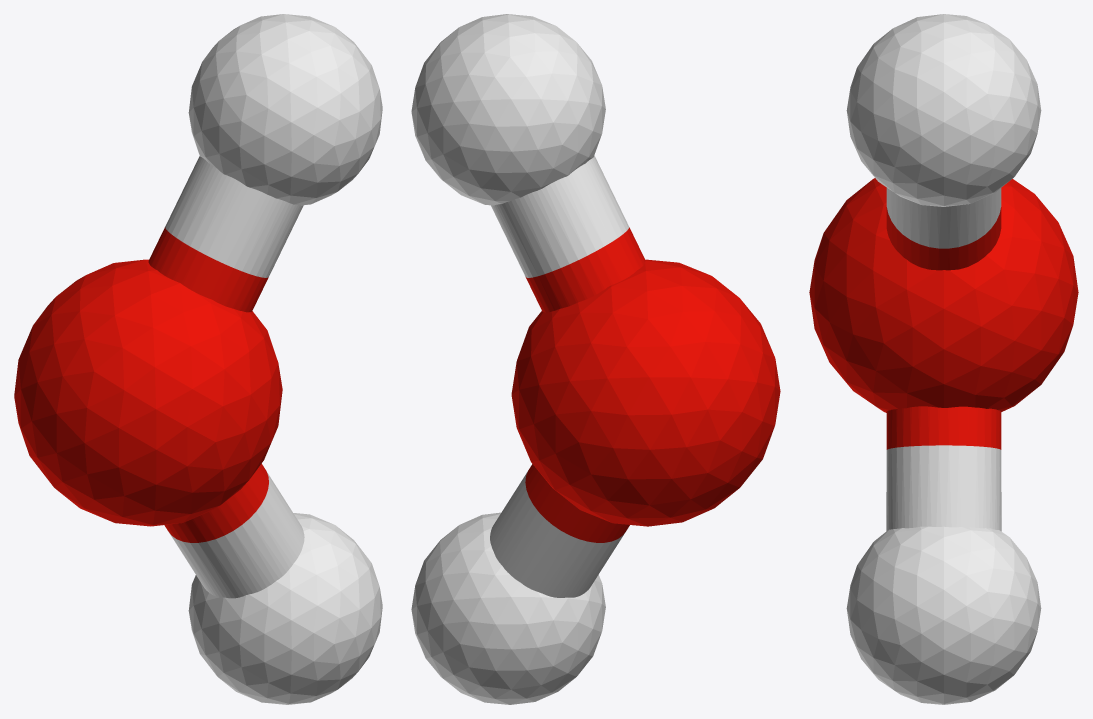
3 renders of one model, left to right at view 1: azimuth 30°, elevation 25°; view 2: azimuth 150°, elevation 25°; view 3: azimuth 270°, elevation 25°, orthographic.
Visible parts, largest first — view 1: Shape_IndexedFaceSet.001, Shape_IndexedFaceSet, Shape_IndexedFaceSet.002, Shape_IndexedFaceSet.008, Shape_IndexedFaceSet.005, Shape_IndexedFaceSet.007, Shape_IndexedFaceSet.003; view 2: Shape_IndexedFaceSet.001, Shape_IndexedFaceSet, Shape_IndexedFaceSet.002, Shape_IndexedFaceSet.008, Shape_IndexedFaceSet.005, Shape_IndexedFaceSet.007, Shape_IndexedFaceSet.003; view 3: Shape_IndexedFaceSet.001, Shape_IndexedFaceSet, Shape_IndexedFaceSet.002, Shape_IndexedFaceSet.005, Shape_IndexedFaceSet.003, Shape_IndexedFaceSet.008, Shape_IndexedFaceSet.007.
Part boxes in pixels (<box>): Shape_IndexedFaceSet.001: <box>14,259,282,526</box>; Shape_IndexedFaceSet: <box>188,14,382,205</box>; Shape_IndexedFaceSet.002: <box>188,513,382,704</box>; Shape_IndexedFaceSet.008: <box>165,156,303,277</box>; Shape_IndexedFaceSet.005: <box>169,472,304,598</box>; Shape_IndexedFaceSet.007: <box>148,227,268,312</box>; Shape_IndexedFaceSet.003: <box>164,463,268,542</box>; Shape_IndexedFaceSet.001: <box>511,259,780,526</box>; Shape_IndexedFaceSet: <box>411,14,605,205</box>; Shape_IndexedFaceSet.002: <box>411,512,605,704</box>; Shape_IndexedFaceSet.008: <box>491,155,628,277</box>; Shape_IndexedFaceSet.005: <box>490,471,625,597</box>; Shape_IndexedFaceSet.007: <box>525,227,645,312</box>; Shape_IndexedFaceSet.003: <box>525,464,629,542</box>; Shape_IndexedFaceSet.001: <box>809,178,1078,412</box>; Shape_IndexedFaceSet: <box>846,14,1041,206</box>; Shape_IndexedFaceSet.002: <box>846,526,1041,704</box>; Shape_IndexedFaceSet.005: <box>886,445,1001,531</box>; Shape_IndexedFaceSet.003: <box>886,406,1001,449</box>; Shape_IndexedFaceSet.008: <box>886,188,1001,248</box>; Shape_IndexedFaceSet.007: <box>886,207,1001,270</box>.
Bounding box in the file's own units: 0.15 × 0.2858 × 0.1034.
